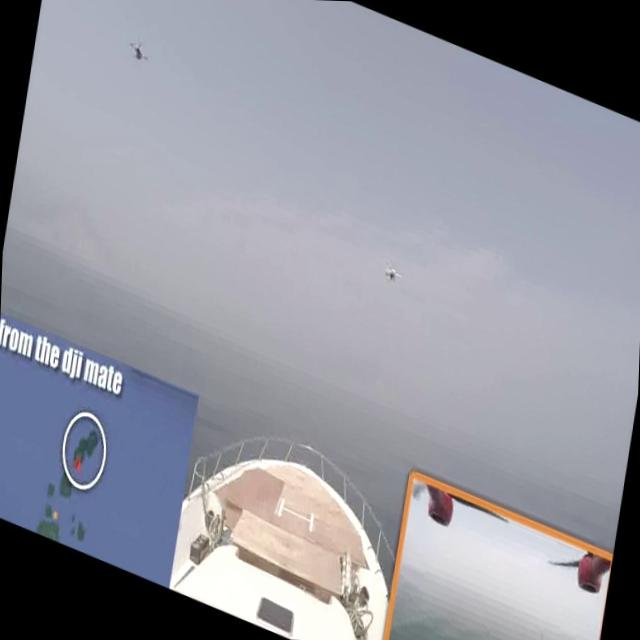drone: (127, 36, 150, 64), (382, 260, 400, 285)
